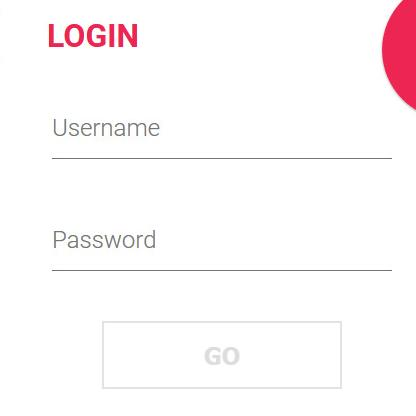button: (101, 319, 343, 390)
field_line: (47, 115, 393, 160), (52, 228, 395, 273)
